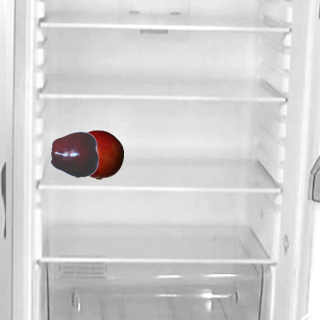Apple Braeburn: (73, 129, 123, 179)
Apple Red Delicious: (50, 129, 100, 179)
